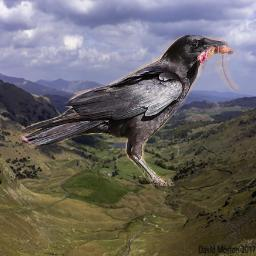Crow: (17, 29, 250, 186)
